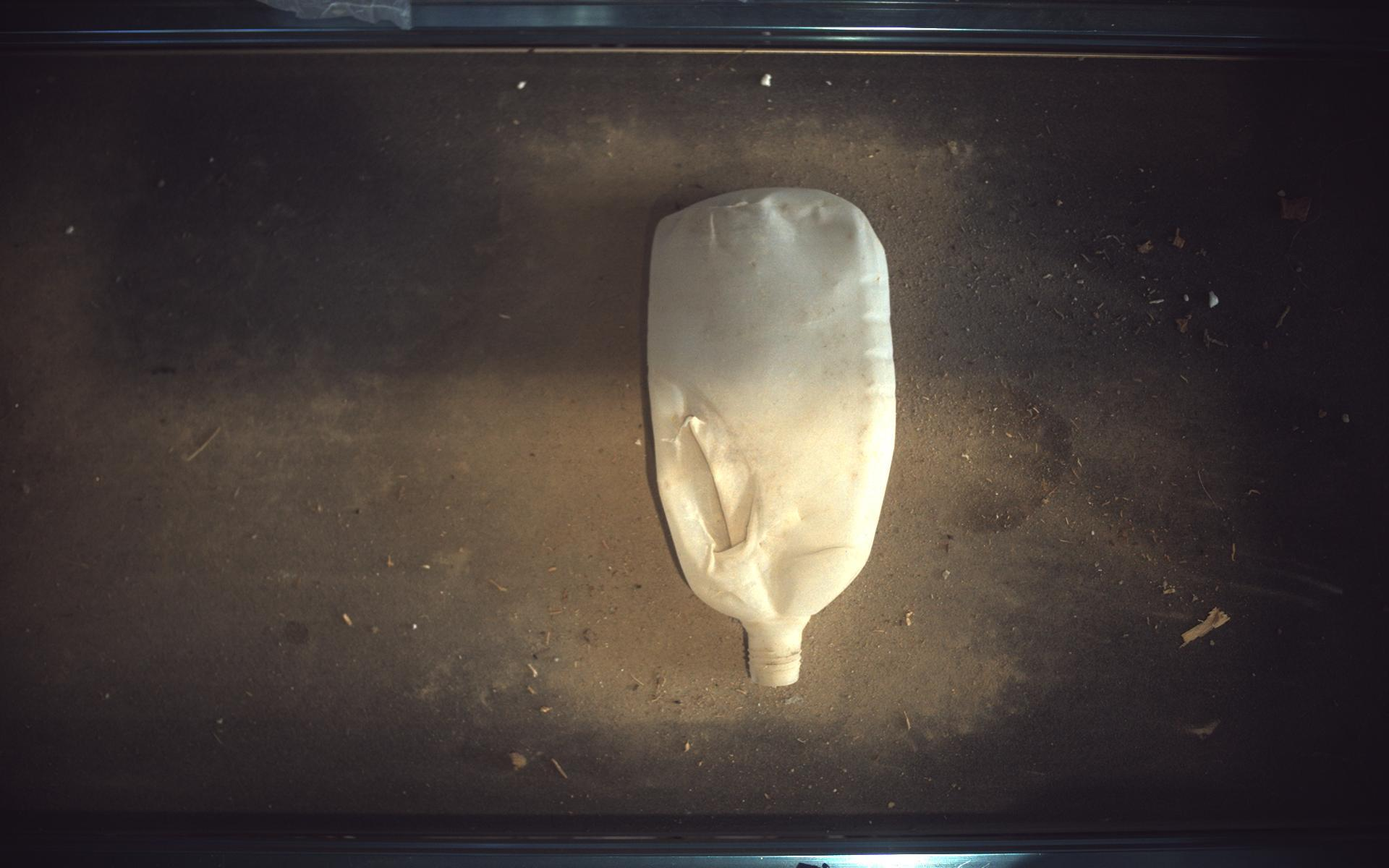general_w: (649, 187, 898, 687)
